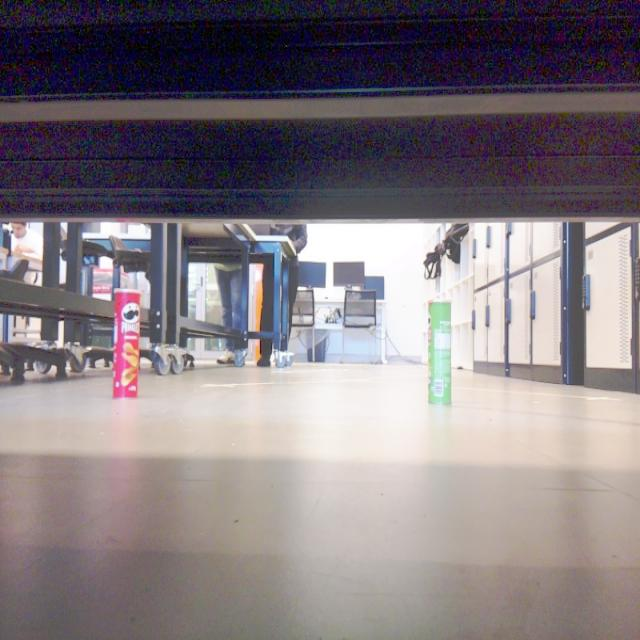greenpringles: (410, 287, 461, 421)
redpringles: (96, 275, 149, 403)
